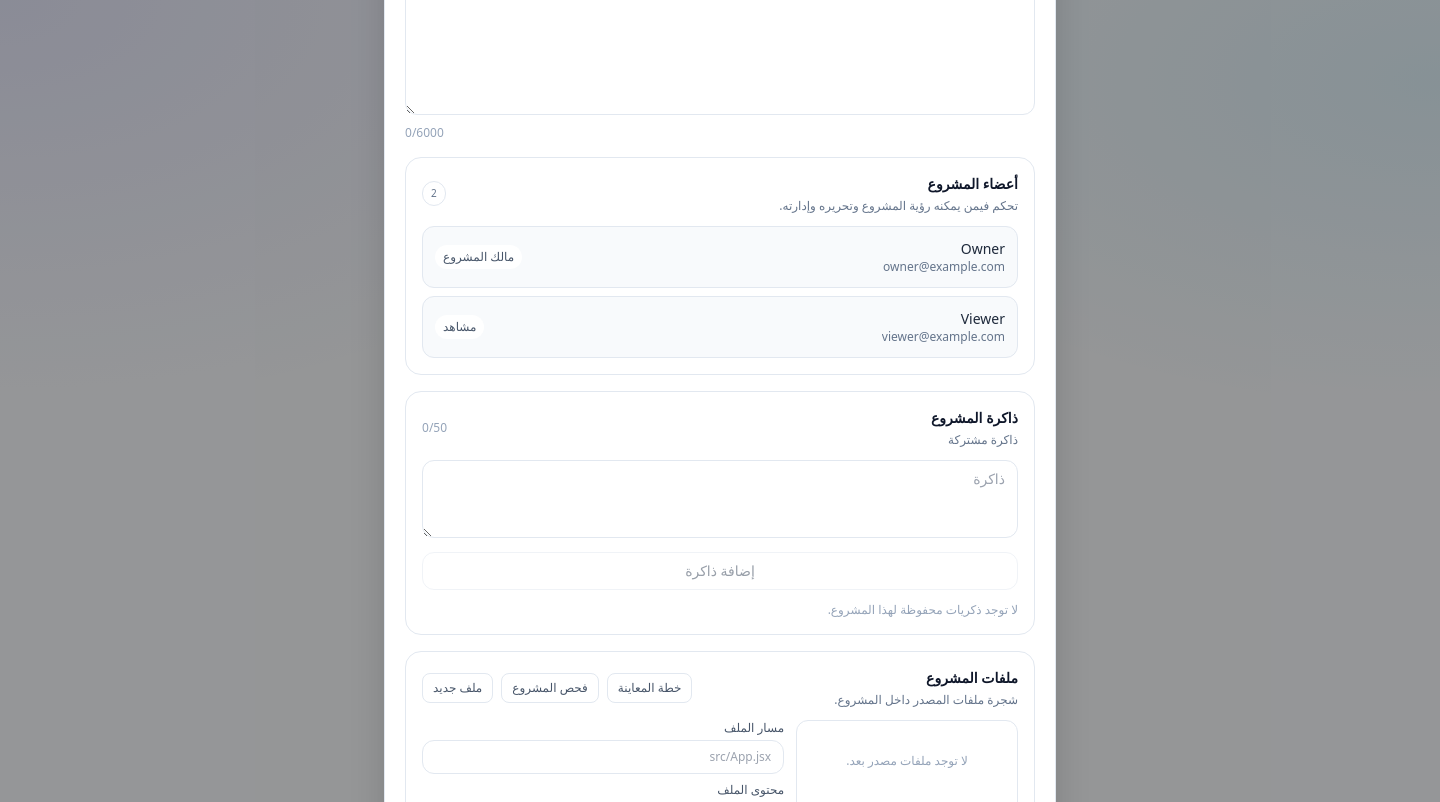
Test: ProjectEditor › runs read-only project validation and shows issues
Click the button "فحص المشروع": (550, 688) [501,672,599,702]
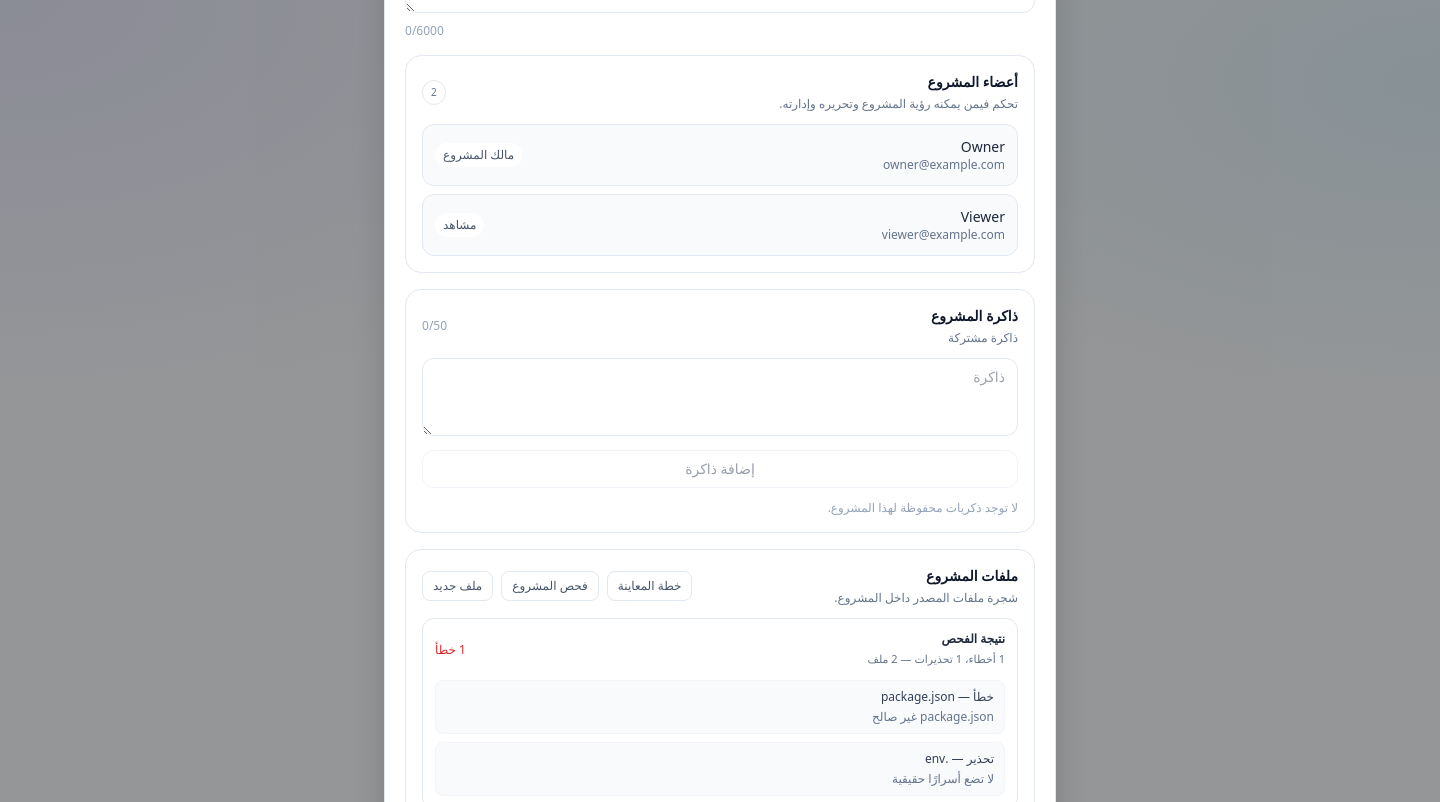
Expected: the text "package.json غير صالح" is shown, [872,708,994,725]
Expected: the text "لا تضع أسرارًا حقيقية" is shown, [892,770,994,787]
Expected: the text "1 أخطاء، 1 تحذيرات — 2 ملف" is shown, [868,651,1005,668]
